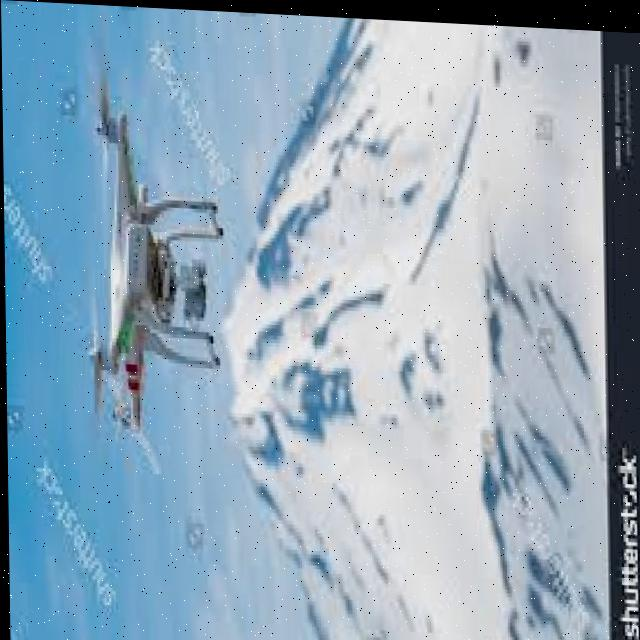drone: (69, 66, 233, 472)
